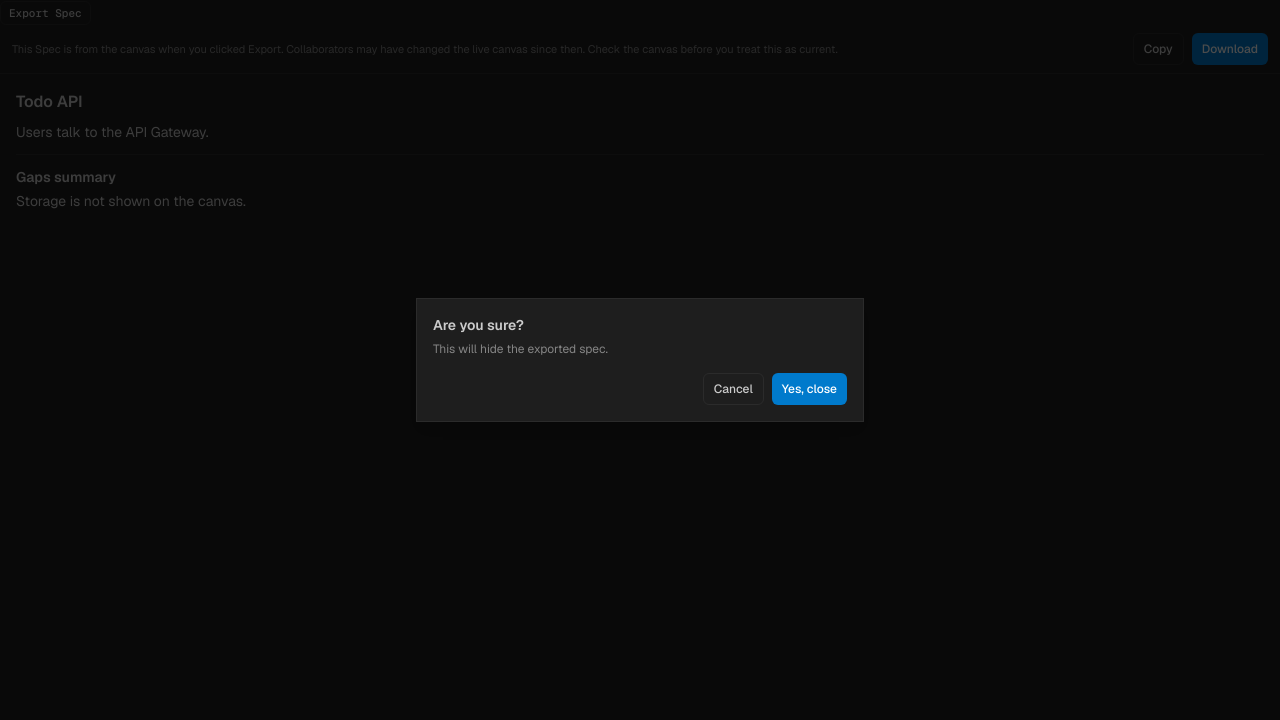
Scenario: ExportSpecToolbar › asks twice before closing the exported Spec
Expected: the heading "Are you sure?" is shown, [433,316,524,334]
Click the button "Yes, close".
click(809, 389)  # box [772,373,847,405]
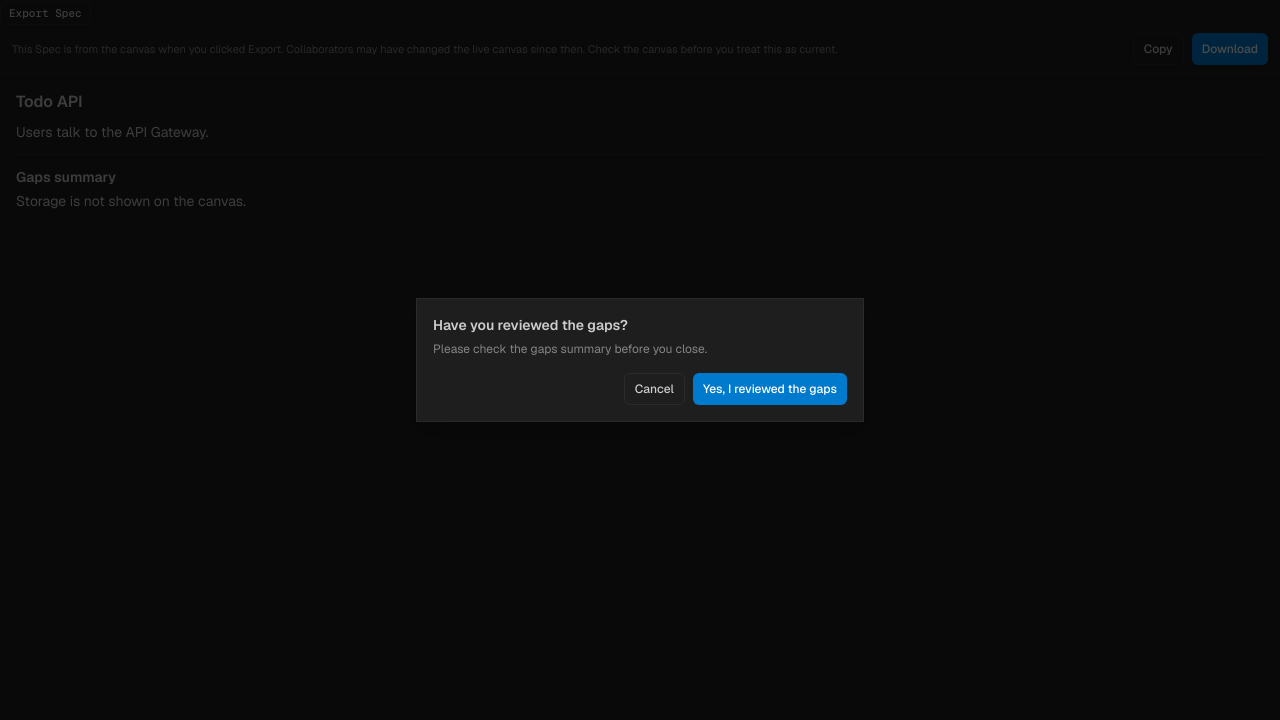
Expected: the heading "Have you reviewed the gaps?" is shown, [433,316,628,334]
Click the button "Yes, I reviewed the gaps".
click(770, 389)  # box [693,373,847,405]
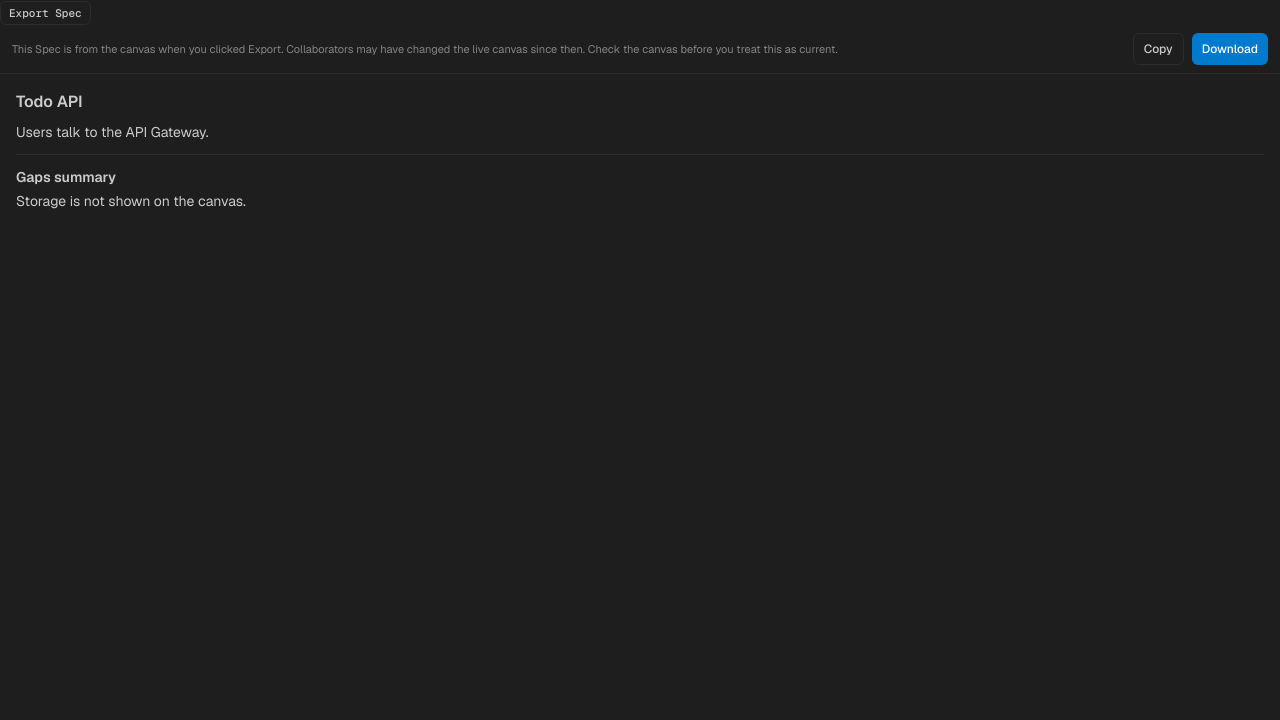
Expected: the heading "Are you sure?" is not shown
Expected: the dialog is gone
